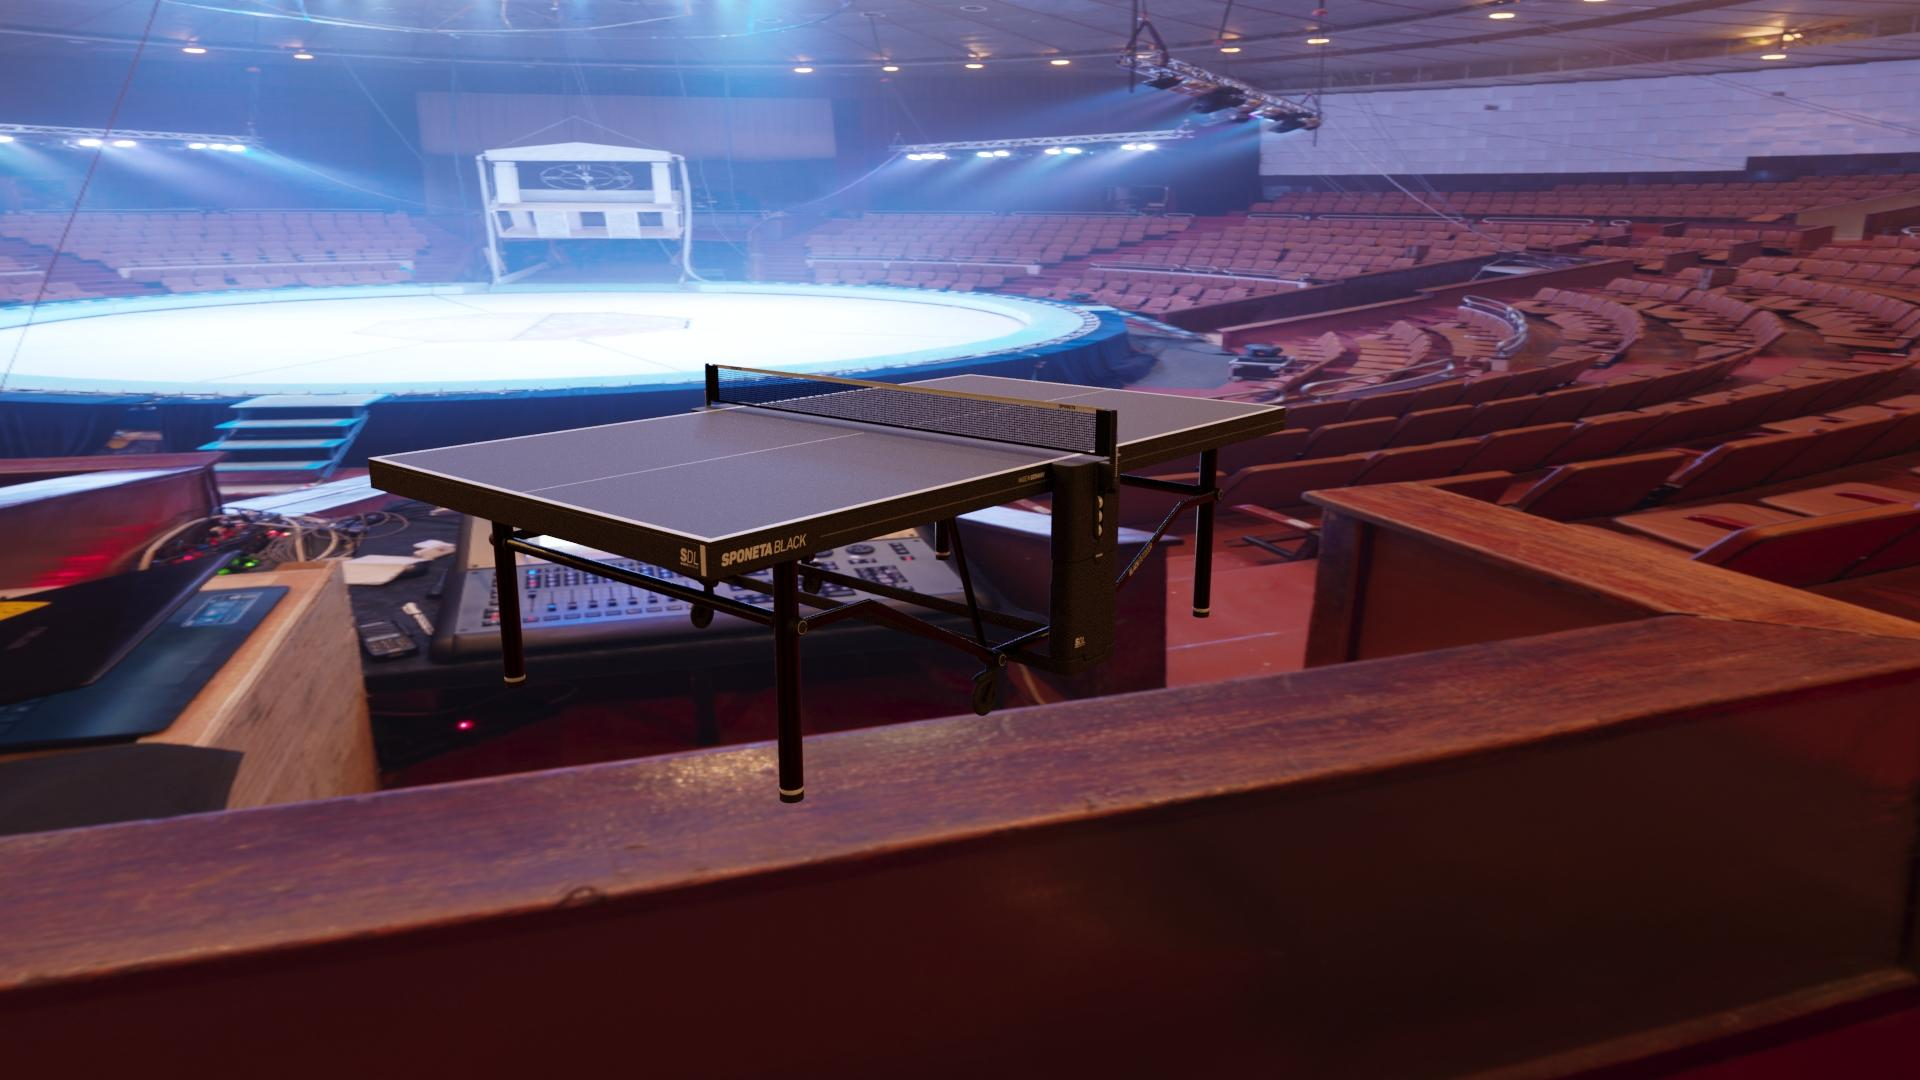table: (377, 375, 1279, 539)
